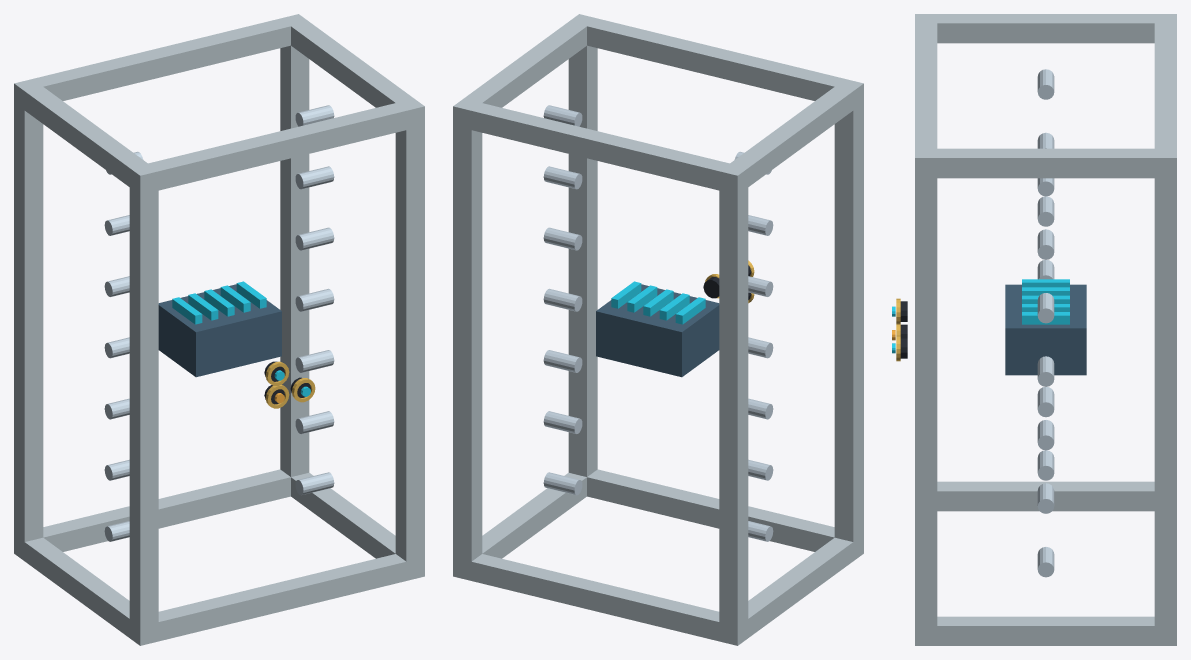
The model's file is 47_L82_RFUniformityCalibrationFrame.fbx.
3 views of the same model, side by side, from view 1: azimuth 30°, elevation 25°; view 2: azimuth 150°, elevation 25°; view 3: azimuth 270°, elevation 25° (orthographic). The views are drawn at different scales.
Visible parts, largest first — view 1: RFUniformityCalibrationFrame, RFUniformityCalibrationFrame_Part_0026; view 2: RFUniformityCalibrationFrame, RFUniformityCalibrationFrame_Part_0026; view 3: RFUniformityCalibrationFrame, RFUniformityCalibrationFrame_Part_0026, RFUniformityCalibrationFrame_Part_0031, RFUniformityCalibrationFrame_Part_0027.
Boxes of the visible parts, <box> form: RFUniformityCalibrationFrame: <box>14,14,424,645</box>; RFUniformityCalibrationFrame_Part_0026: <box>158,284,281,377</box>; RFUniformityCalibrationFrame: <box>453,14,863,645</box>; RFUniformityCalibrationFrame_Part_0026: <box>596,284,719,377</box>; RFUniformityCalibrationFrame: <box>892,14,1176,645</box>; RFUniformityCalibrationFrame_Part_0026: <box>1005,284,1086,375</box>; RFUniformityCalibrationFrame_Part_0031: <box>1022,312,1069,324</box>; RFUniformityCalibrationFrame_Part_0027: <box>1022,279,1069,287</box>.
Size of the model in its own units: 185 by 292 by 154.
